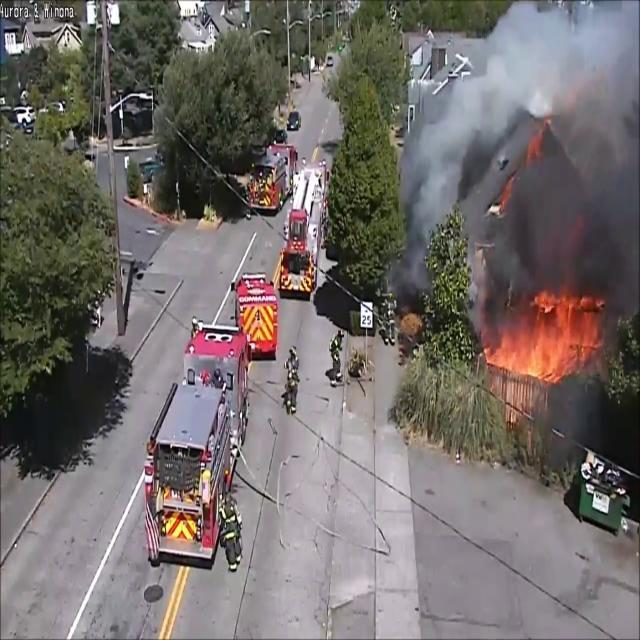Fire: (487, 286, 603, 390)
Smoke: (395, 2, 640, 310)
